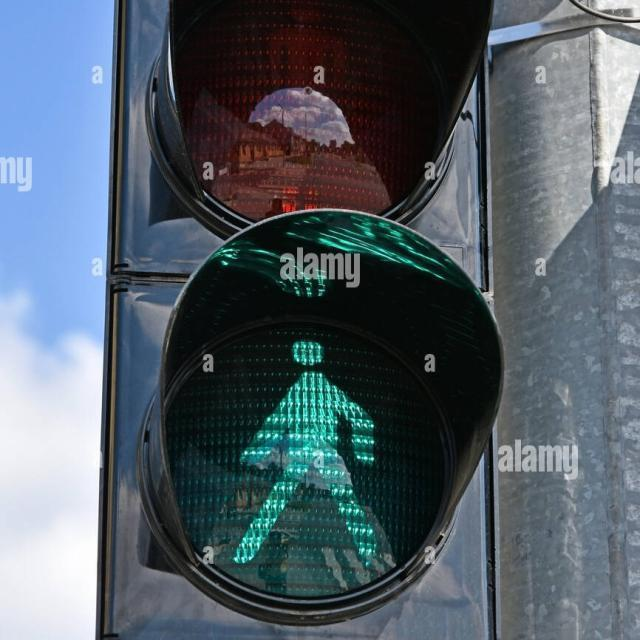geen-crossing: (240, 328, 384, 574)
